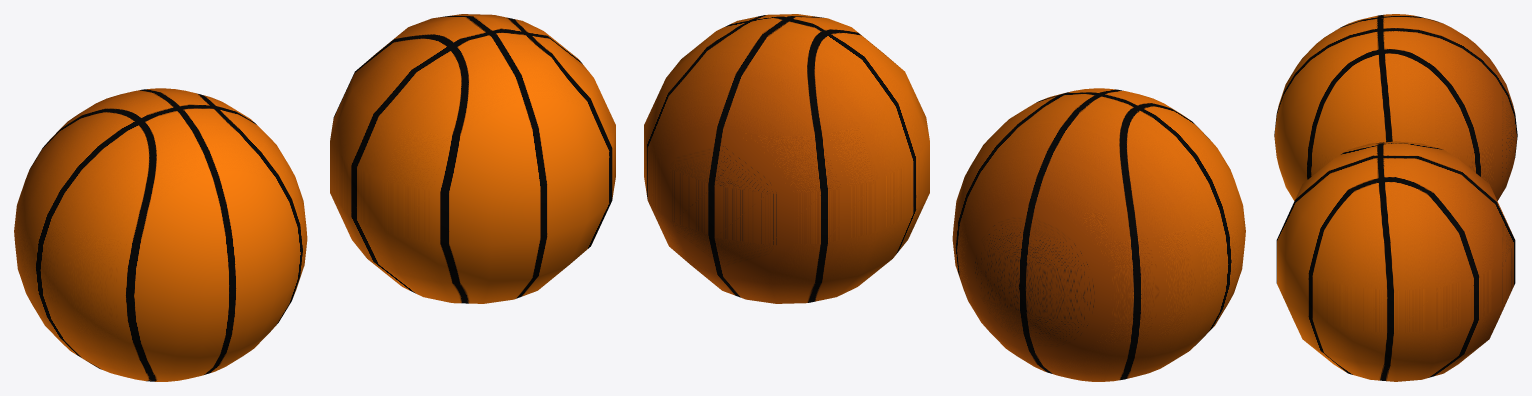
Rendered from Basketball.fbx.
3 views of the same model, side by side, from view 1: azimuth 30°, elevation 25°; view 2: azimuth 150°, elevation 25°; view 3: azimuth 270°, elevation 25° (orthographic). The views are drawn at different scales.
Parts seen in each view (by area): view 1: Sphere, Sphere.001; view 2: Sphere, Sphere.001; view 3: Sphere.001, Sphere.
Part boxes in pixels (<box>): Sphere: <box>14,88,307,381</box>; Sphere.001: <box>330,14,615,303</box>; Sphere: <box>952,88,1245,381</box>; Sphere.001: <box>644,14,929,303</box>; Sphere.001: <box>1276,141,1515,381</box>; Sphere: <box>1274,14,1517,200</box>.
Bounding box in the file's own units: 443 × 200 × 200.
Materials: 1 (1 with a texture image).
